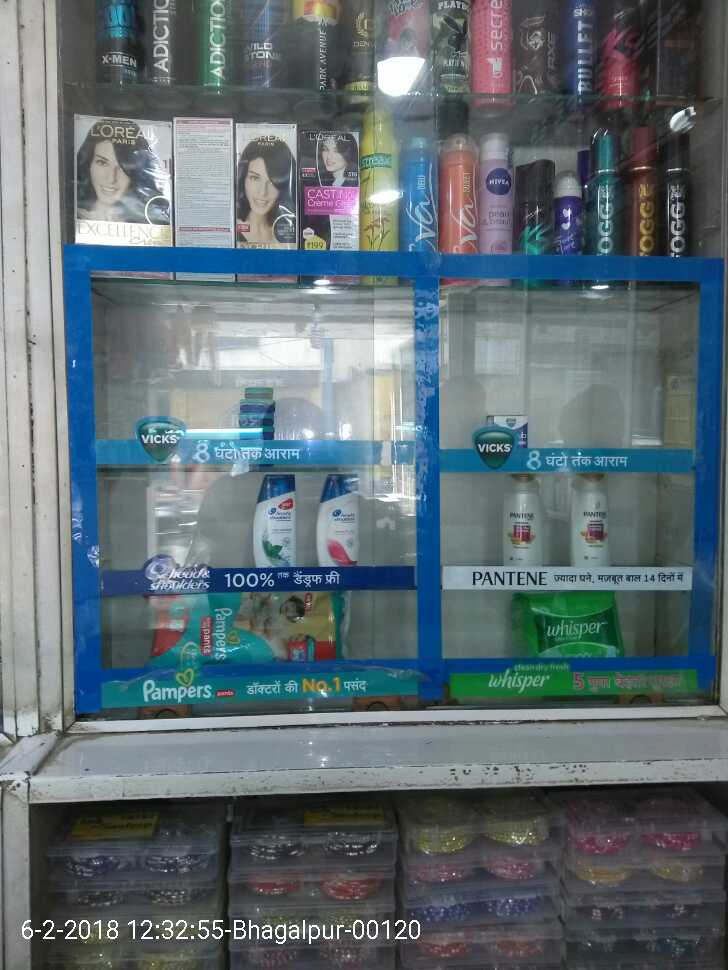vicks: (472, 403, 544, 462), (231, 380, 287, 439)
